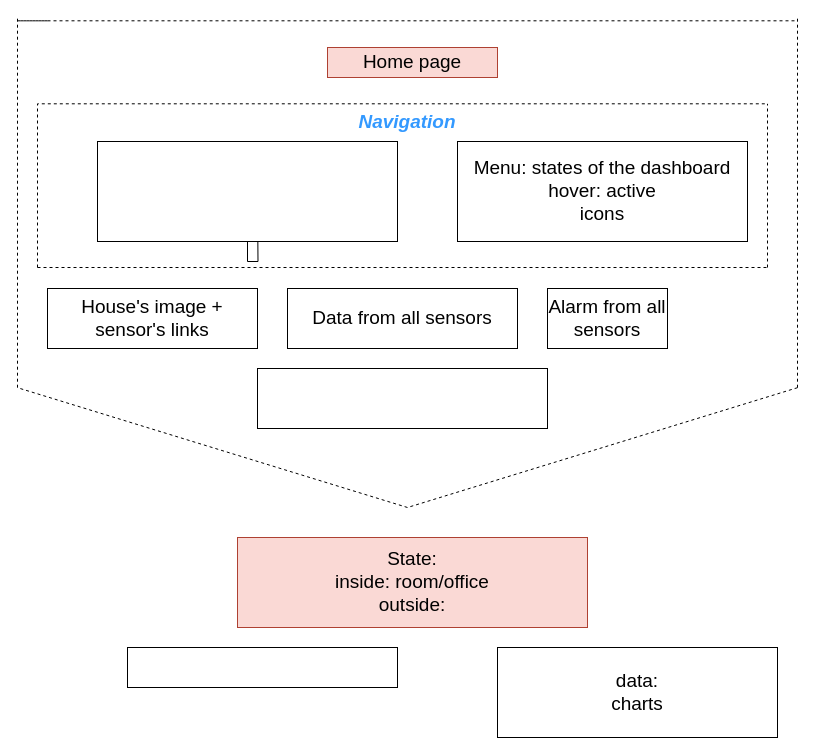
The diagram is 816 pixels wide and 755 high, and some of its shapes have lost their labels. Each missing label, with the box of its shape:
Company's info: our logo, name of project link to our site,: (96, 140, 398, 242)
Footer: social media, podcast, contact us: (256, 368, 548, 428)
Image + sensor's links: (126, 646, 398, 688)
